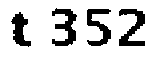2: (116, 6, 148, 52)
3: (47, 5, 79, 50)
5: (84, 4, 112, 48)
t: (9, 11, 35, 50)
